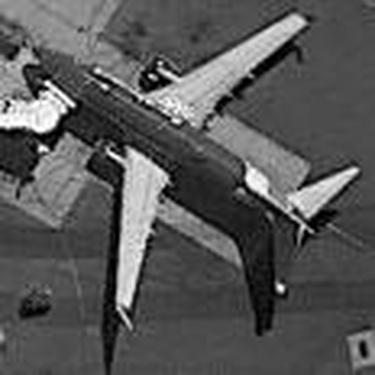airplane: (11, 5, 366, 355)
